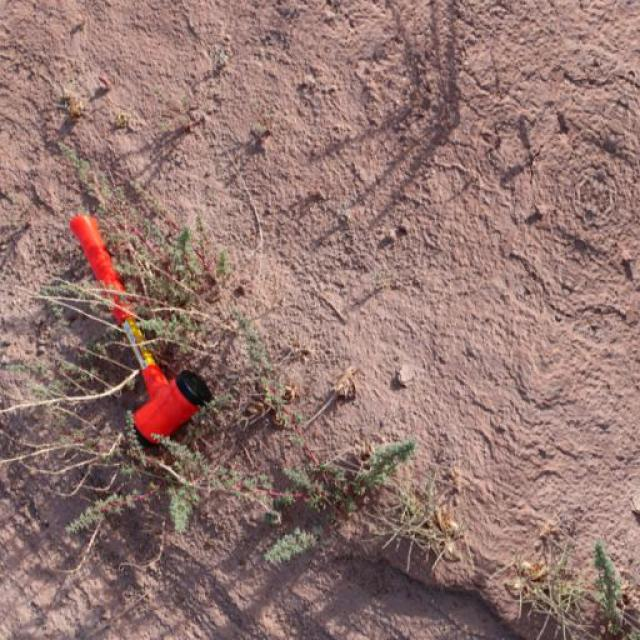mallet: (69, 212, 215, 446)
